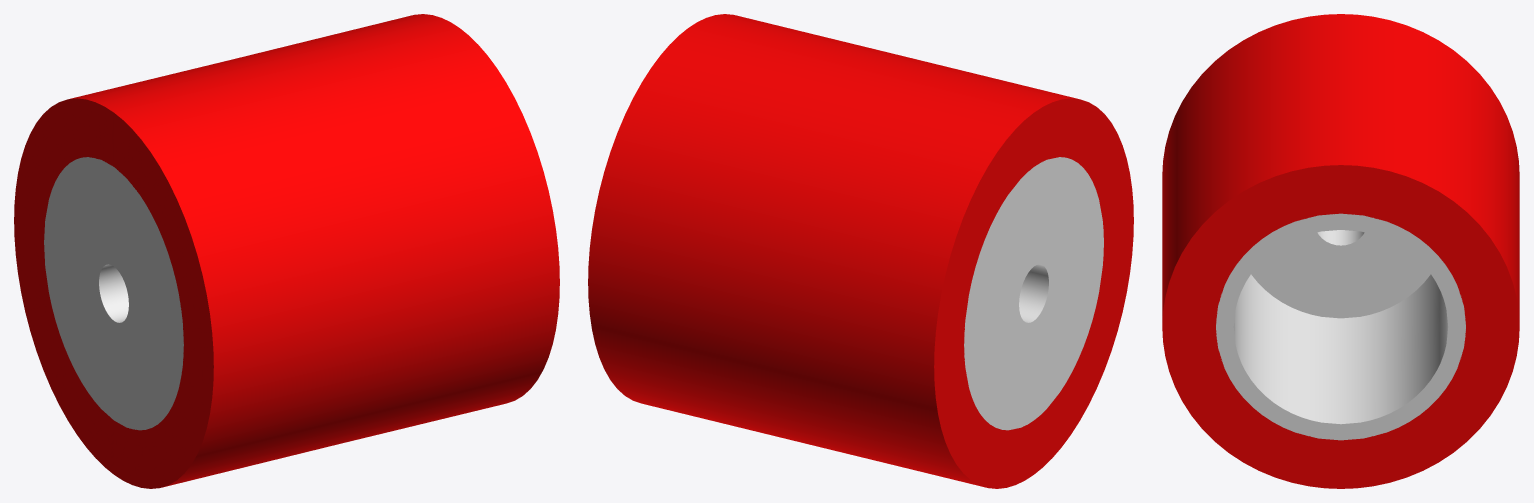
Rendered from wheel.glb.
The picture shows the model from 3 angles, left to right: view 1: azimuth 30°, elevation 25°; view 2: azimuth 150°, elevation 25°; view 3: azimuth 270°, elevation 25°; orthographic projection. The views are drawn at different scales.
Visible parts, largest first — view 1: Body1, Body2; view 2: Body1, Body2; view 3: Body1, Body2.
Boxes of the visible parts, x1,y1,x2,y2 form: Body1: [14, 14, 559, 488]; Body2: [44, 157, 183, 430]; Body1: [588, 14, 1133, 488]; Body2: [964, 157, 1103, 430]; Body1: [1162, 14, 1519, 488]; Body2: [1216, 213, 1465, 440].
Bounding box in the file's own units: 1 × 1 × 1.
